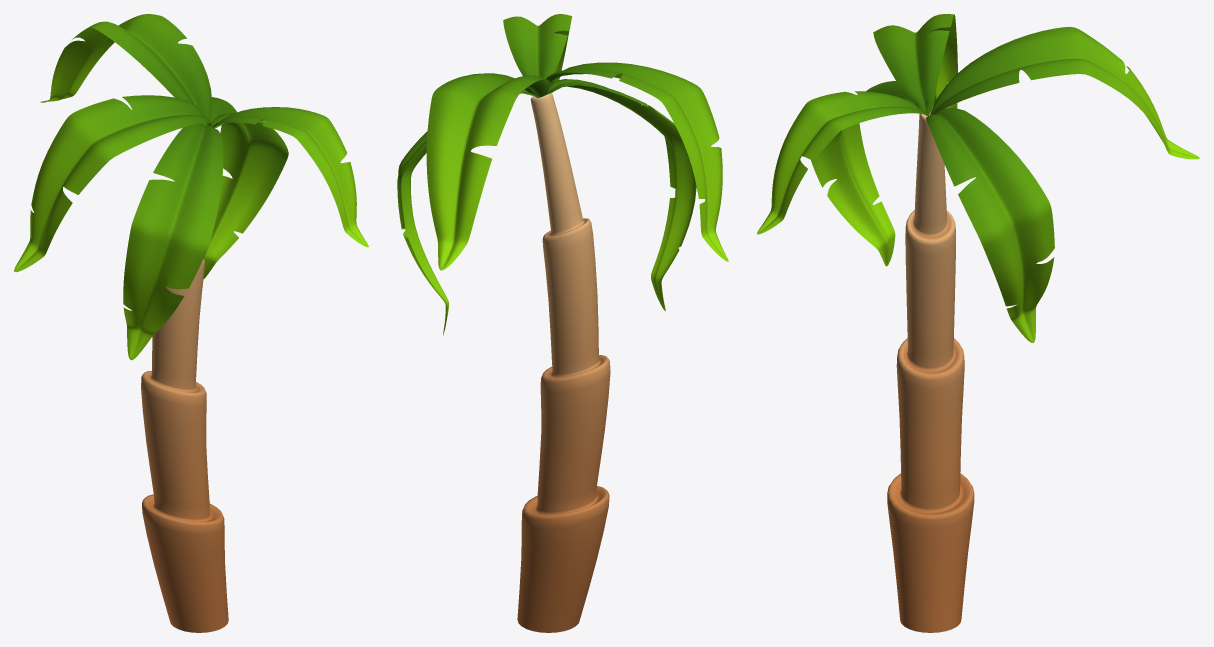
File: uploads_files_787167_palm.FBX
3 renders of one model, left to right at view 1: azimuth 30°, elevation 25°; view 2: azimuth 150°, elevation 25°; view 3: azimuth 270°, elevation 25°, orthographic. The views are drawn at different scales.
Visible parts, largest first — view 1: palm, leaf5, leaf4, leaf3, leaf2, leaf1; view 2: palm, leaf3, leaf4, leaf5, leaf1, leaf2; view 3: palm, leaf2, leaf3, leaf1, leaf5, leaf4.
Part boxes in pixels (left/top/right/bottom): palm: left=141, top=128, right=228, bottom=632; leaf5: left=123, top=123, right=223, bottom=360; leaf4: left=14, top=95, right=211, bottom=272; leaf3: left=40, top=14, right=211, bottom=125; leaf2: left=203, top=97, right=288, bottom=279; leaf1: left=212, top=107, right=368, bottom=247; palm: left=517, top=92, right=610, bottom=632; leaf3: left=426, top=73, right=549, bottom=270; leaf4: left=546, top=62, right=728, bottom=261; leaf5: left=547, top=79, right=696, bottom=311; leaf1: left=503, top=14, right=572, bottom=92; leaf2: left=397, top=89, right=538, bottom=335; palm: left=887, top=106, right=974, bottom=632; leaf2: left=926, top=107, right=1054, bottom=342; leaf3: left=930, top=27, right=1199, bottom=159; leaf1: left=757, top=91, right=927, bottom=234; leaf5: left=811, top=81, right=931, bottom=266; leaf4: left=873, top=14, right=957, bottom=115.
Size of the model in its own units: 108 by 198 by 138.
